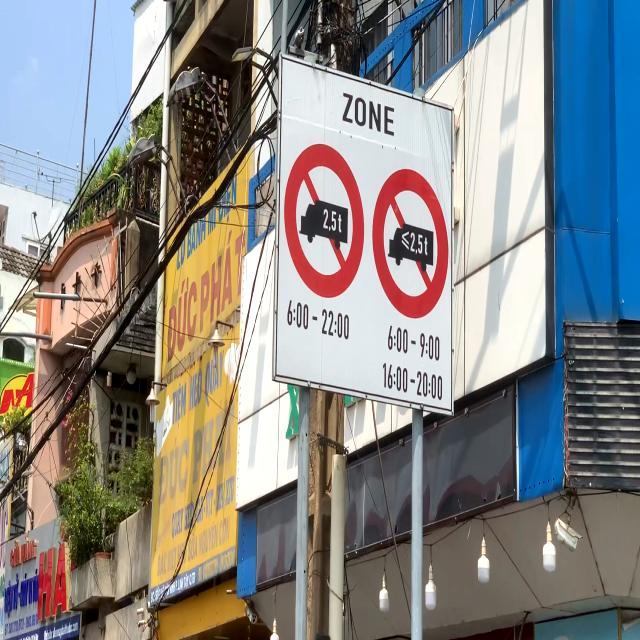P.106b: (283, 143, 365, 299), (372, 168, 449, 319)
